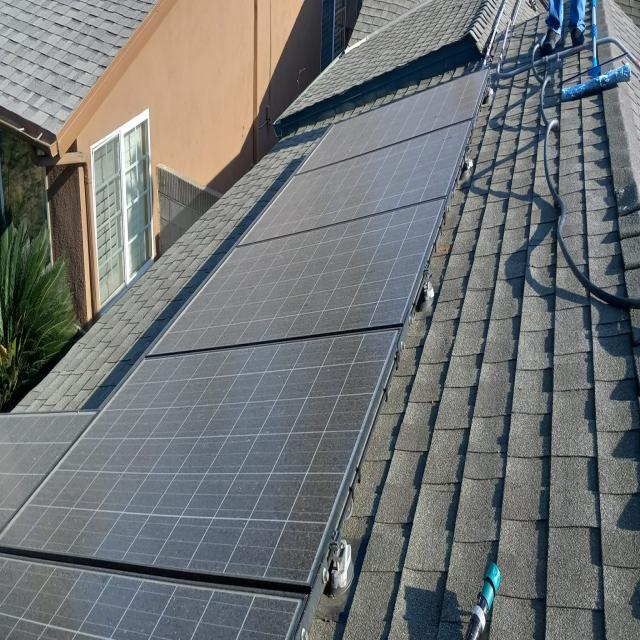dust-solar-panel: (0, 67, 489, 640)
